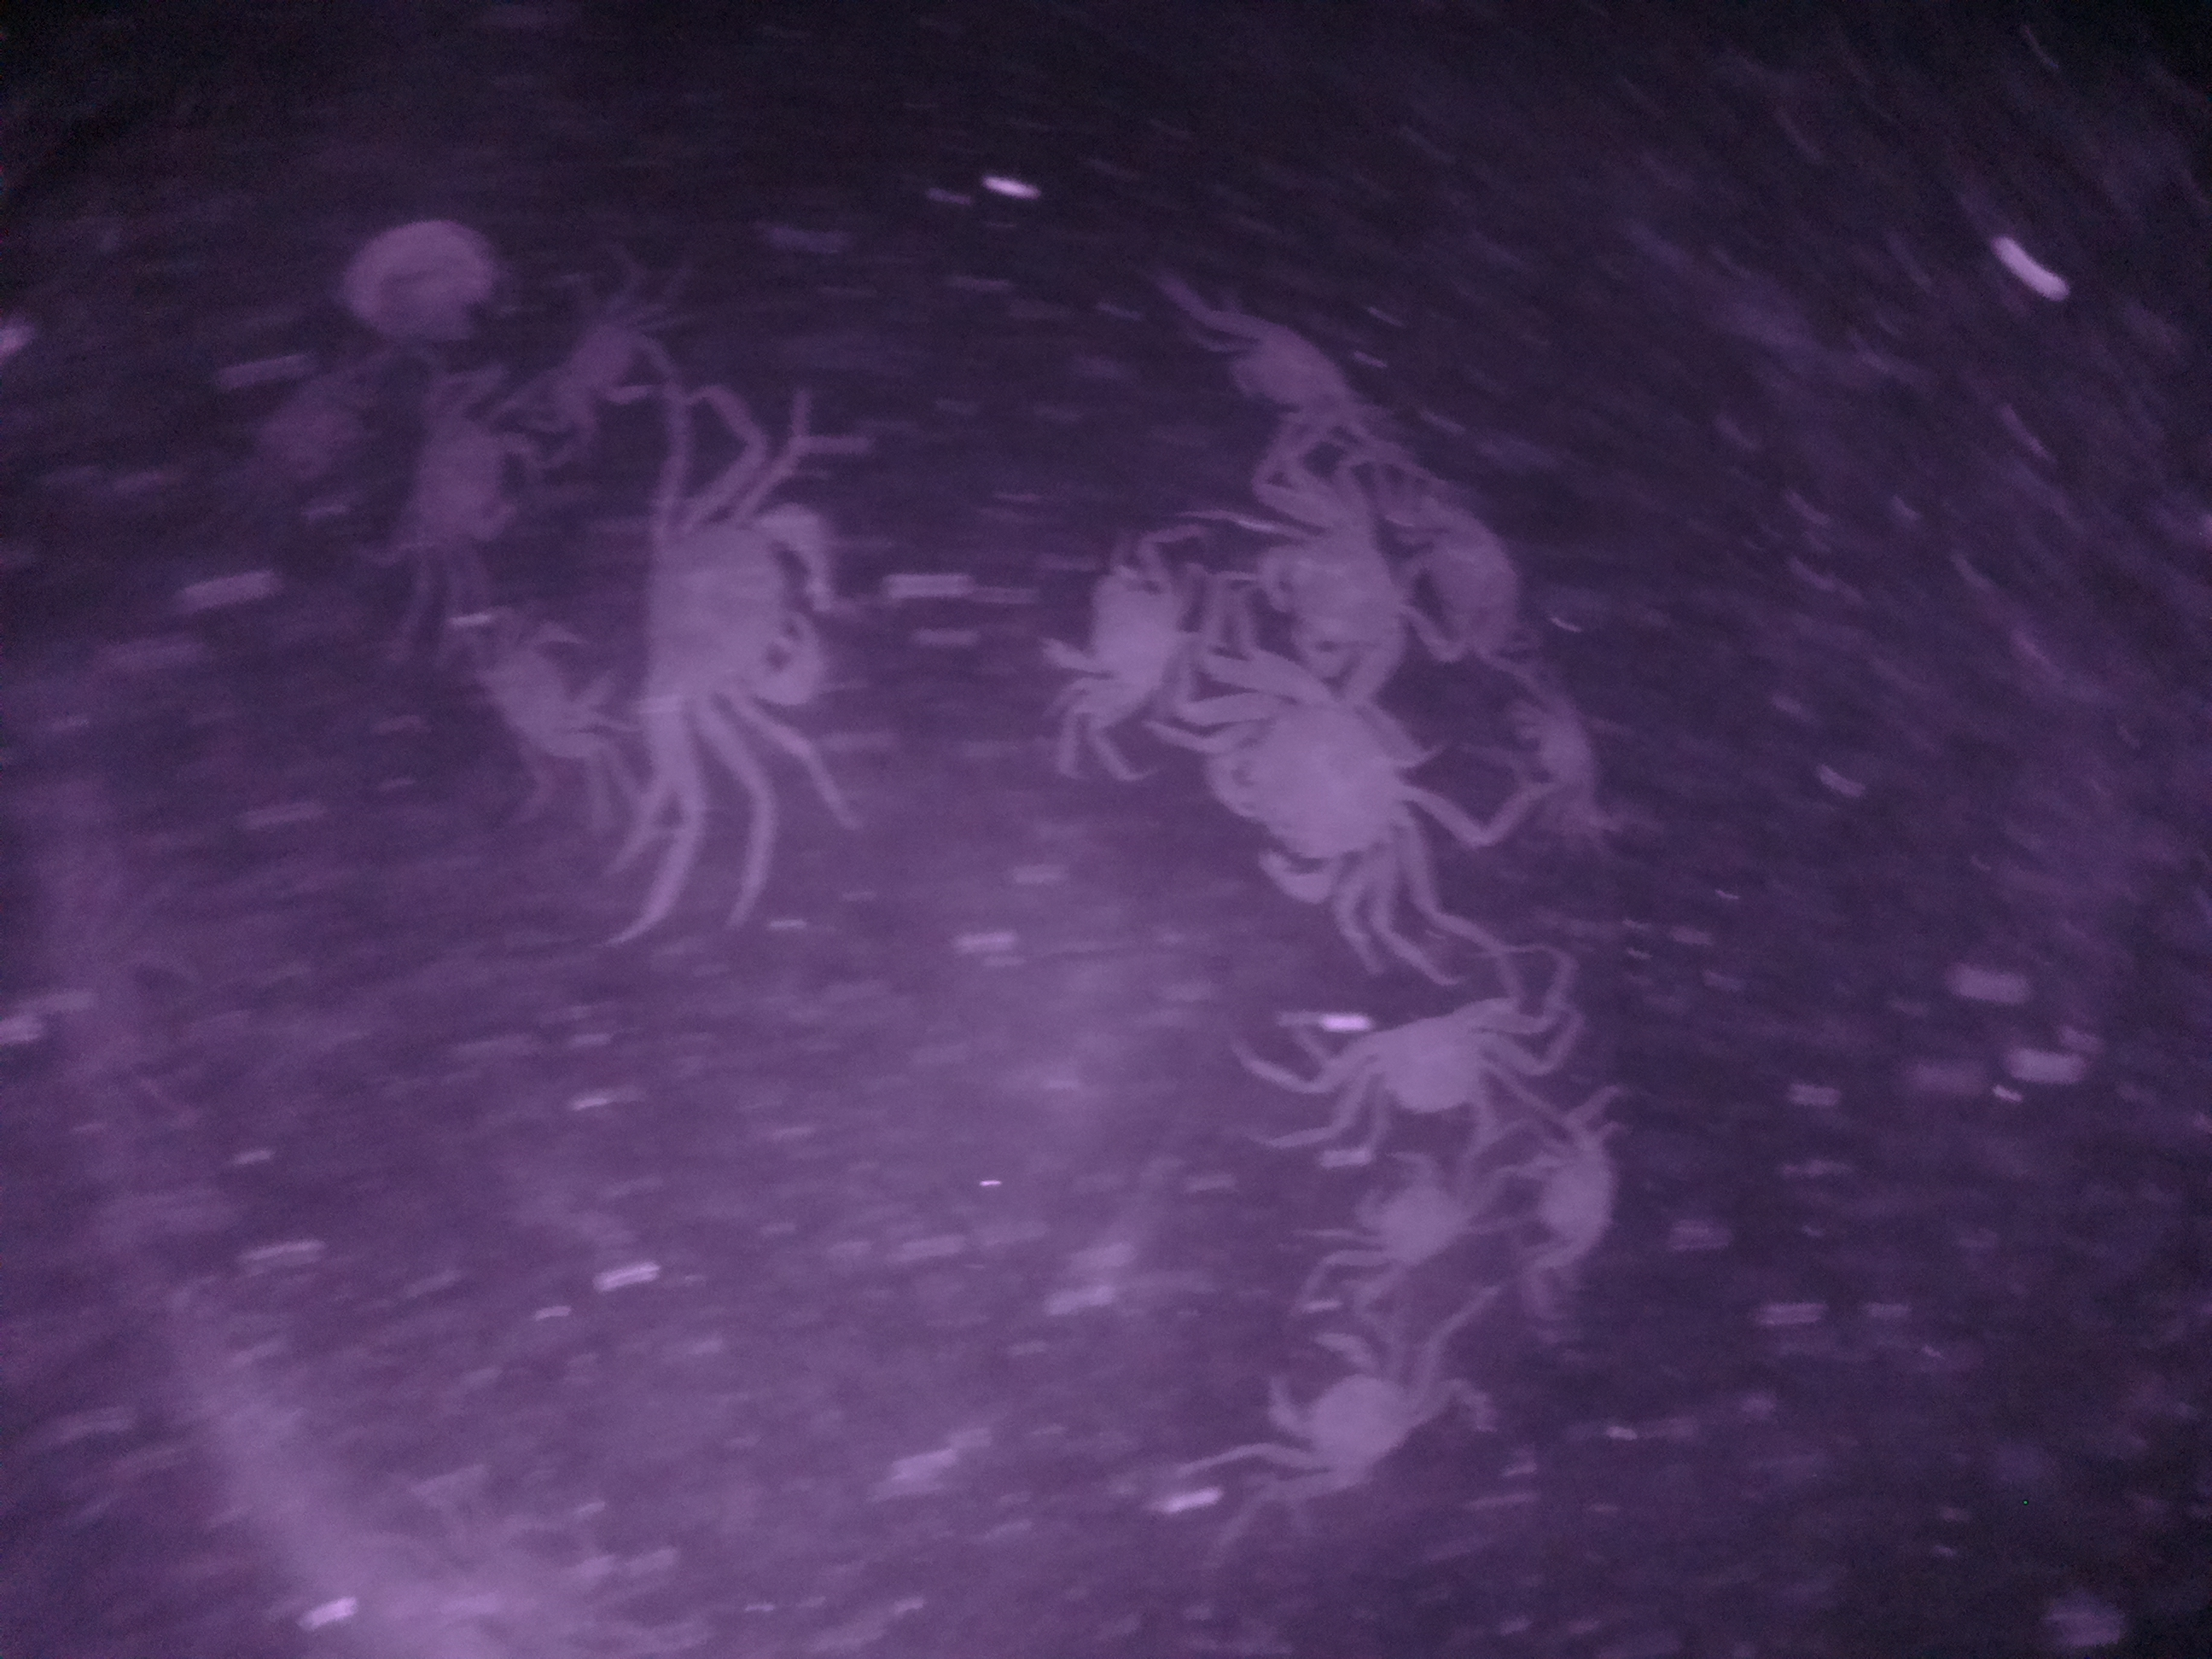Crab: (1216, 1317, 1479, 1502), (1303, 978, 1540, 1159)
